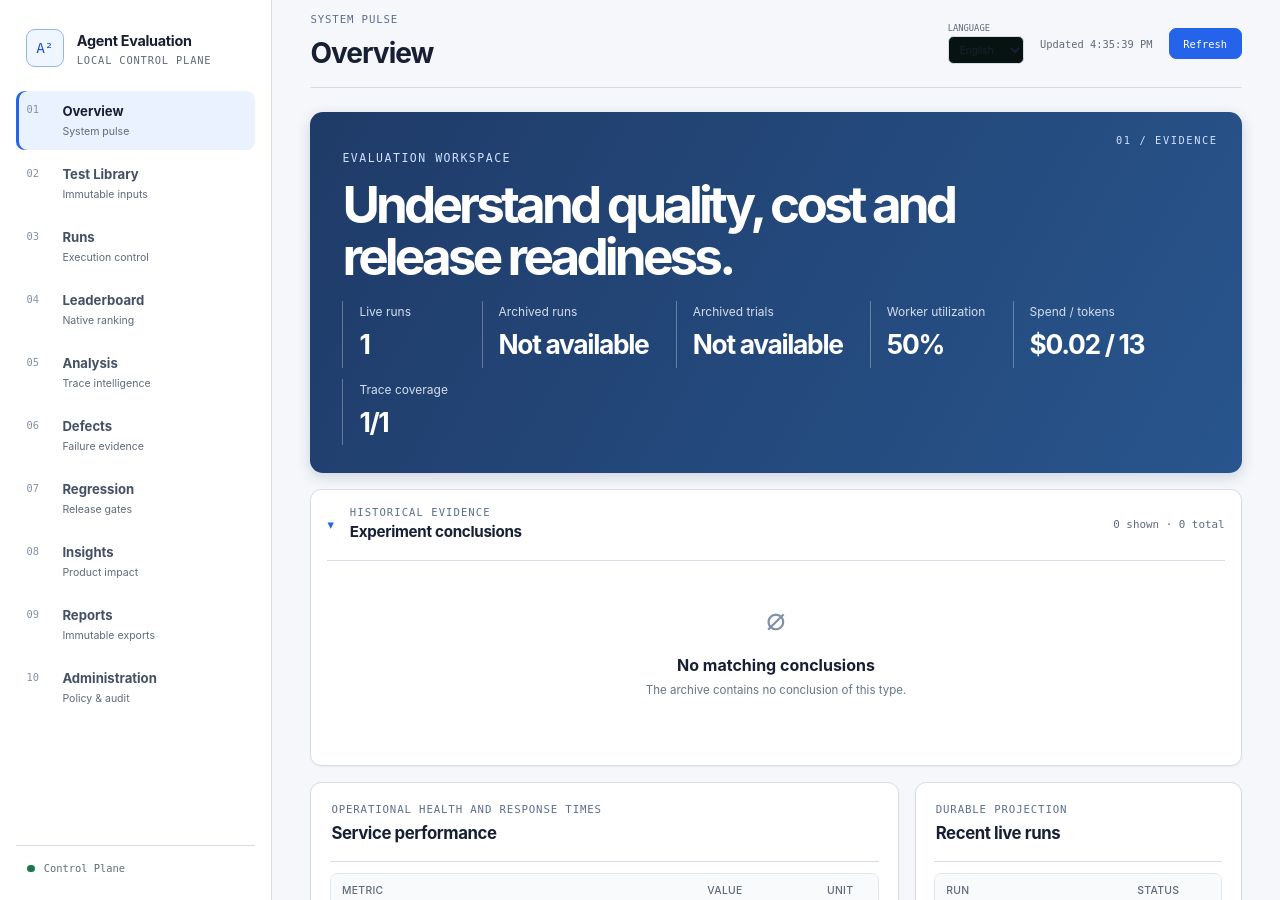
Test: standalone evaluation dashboard › does not show a previous route's projection when the new route fails
Click the button "05 Analysis Trace intelligence" at [136, 373], box [16,343,255,402]
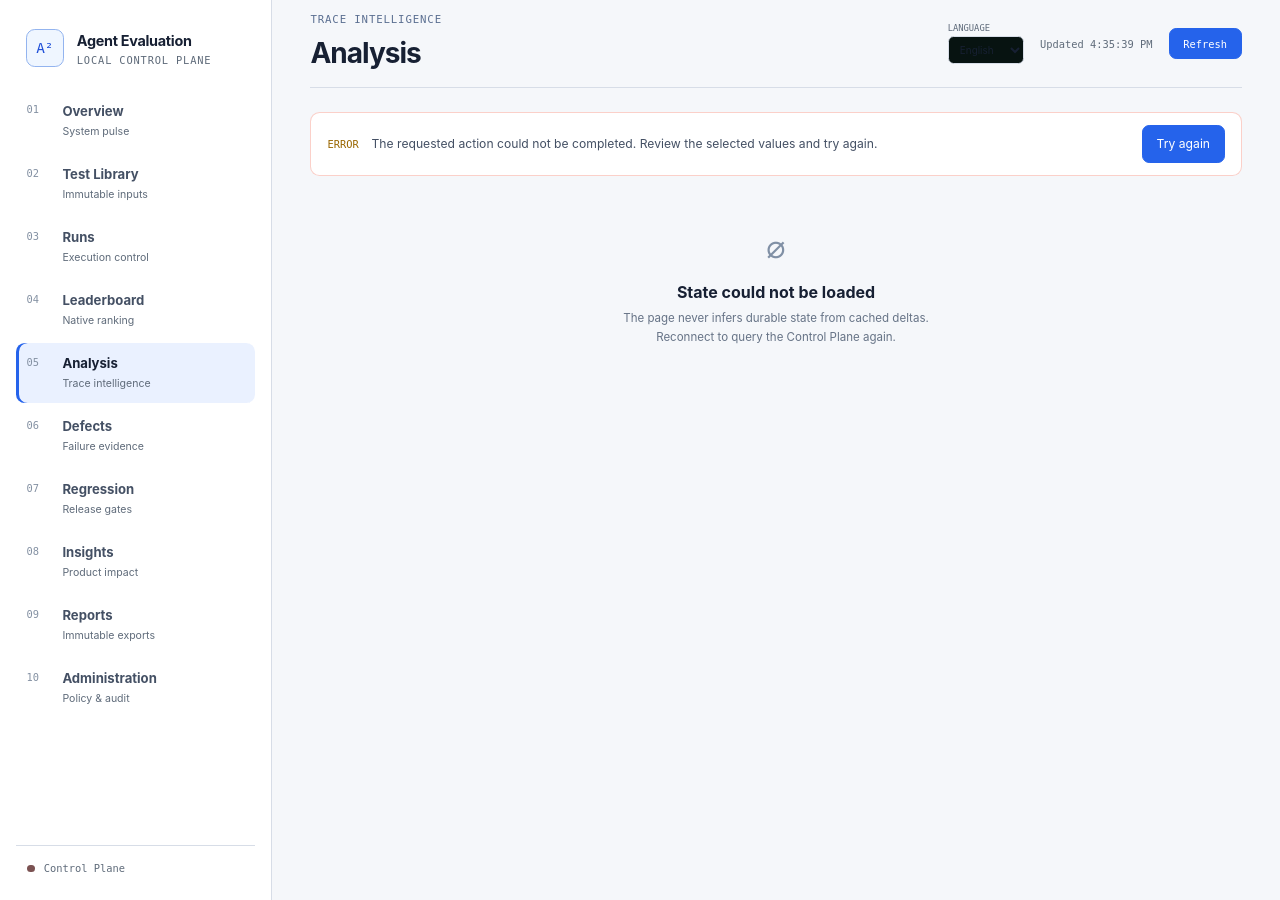
Expected: the text "Error" is shown, [327,138,359,150]
